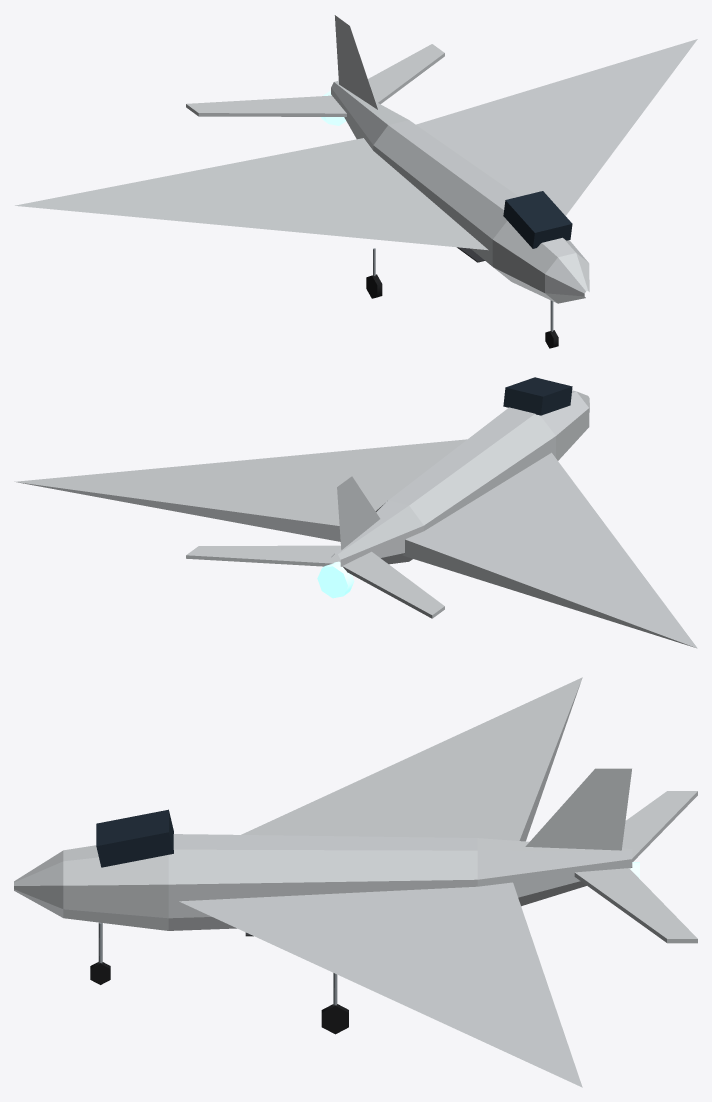
Rendered from veh_air_bomber_a09.glb.
3 views of the same model, one above another, from view 1: azimuth 30°, elevation 25°; view 2: azimuth 150°, elevation 25°; view 3: azimuth 270°, elevation 25° (orthographic). The views are drawn at different scales.
Visible parts, largest first — view 1: body; view 2: body; view 3: body, gear_2.
Part boxes in pixels (bbox=[...]): body: bbox=[15, 15, 697, 303]; body: bbox=[14, 377, 697, 648]; body: bbox=[14, 677, 697, 1087]; gear_2: bbox=[321, 973, 348, 1034].
Size of what is drawn, in the model's own units: 24.64 by 6.04 by 17.35.
